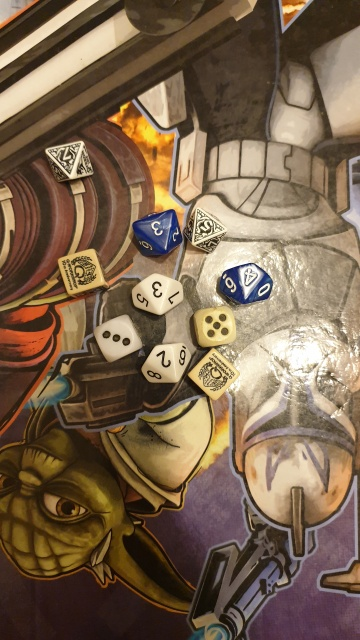d10-2: (136, 344, 190, 386)
d10-3: (123, 202, 185, 260), (127, 271, 188, 316)
d10-4: (213, 258, 277, 308)
d6-3: (94, 314, 141, 360)
d6-5: (193, 304, 235, 348)
d6p-6: (53, 246, 107, 297), (188, 347, 236, 403)
d8p-5: (184, 202, 227, 256)
d8p-7: (45, 141, 93, 186)
